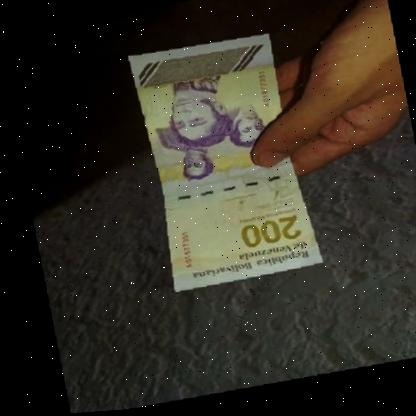two_hundred-front-vef: (123, 33, 322, 297)
